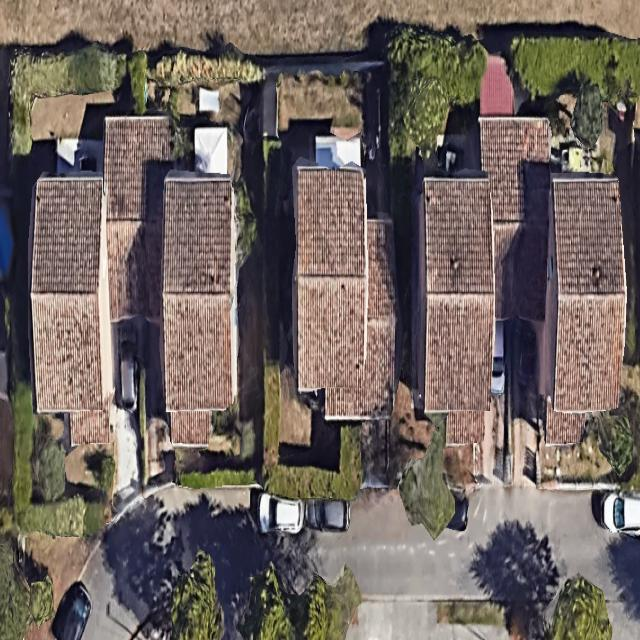maison: (13, 108, 170, 448), (419, 115, 550, 445), (291, 158, 396, 420), (157, 170, 241, 444), (541, 176, 631, 414)
